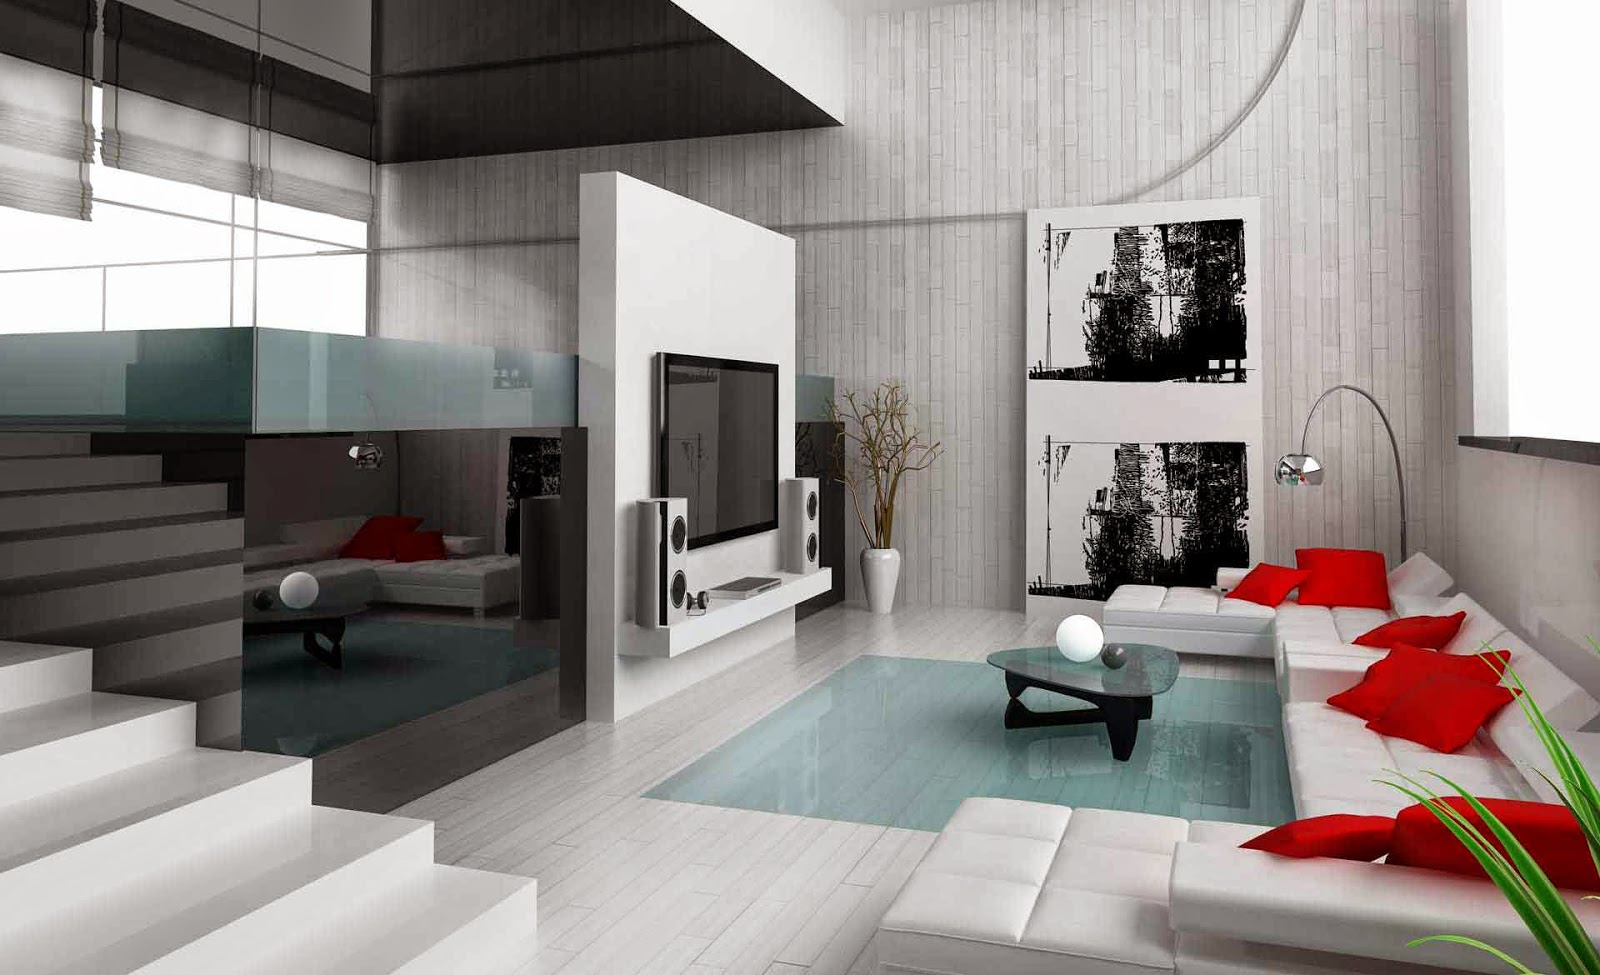meja: (987, 630, 1177, 774)
sova: (1257, 554, 1600, 968)
